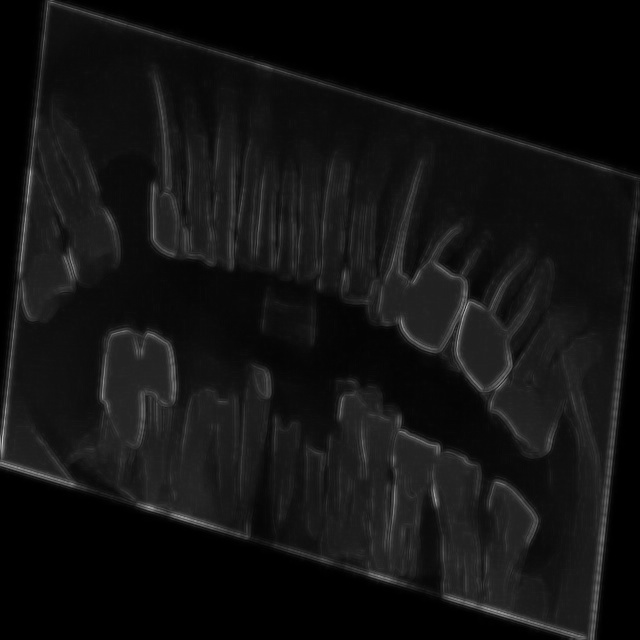Class 0- No endodontic treatment: (454, 202, 572, 480), (103, 30, 221, 300), (362, 108, 438, 352)
Class 1- complete endodontic treatment: (69, 287, 200, 511), (396, 174, 496, 410)
cavity: (224, 96, 365, 330), (248, 396, 348, 552)
